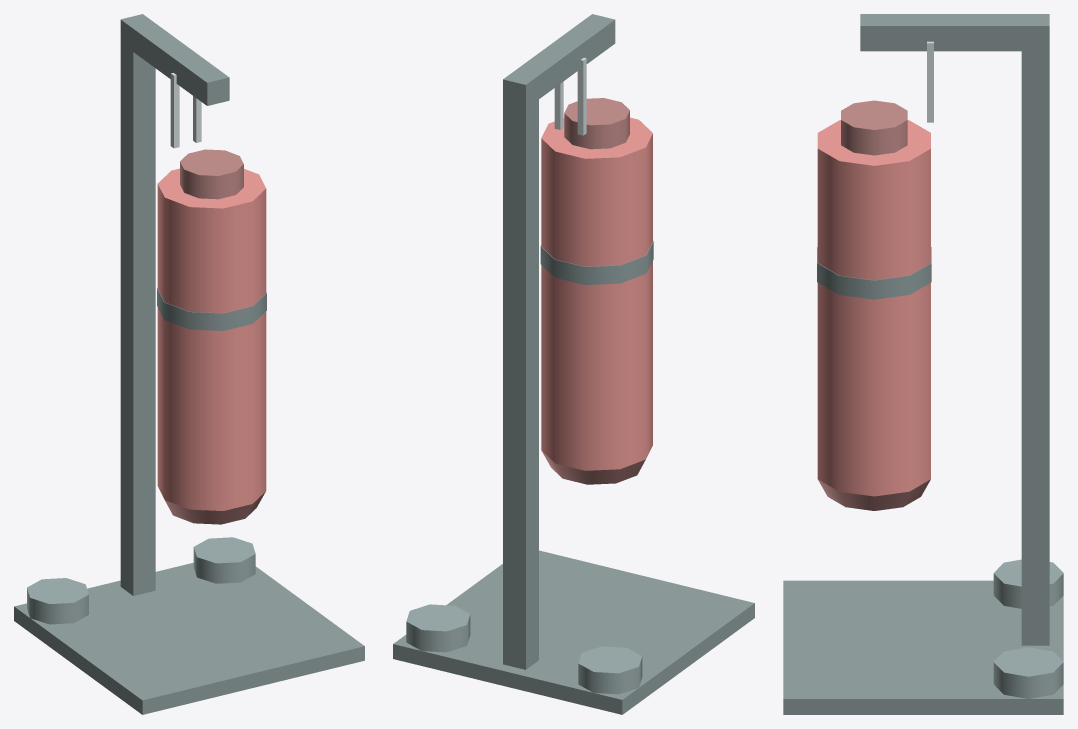
The model's file is punchingBag.glb.
The picture shows the model from 3 angles, left to right: view 1: azimuth 30°, elevation 25°; view 2: azimuth 150°, elevation 25°; view 3: azimuth 270°, elevation 25°; orthographic projection. The views are drawn at different scales.
Parts seen in each view (by area): view 1: punchingBag; view 2: punchingBag; view 3: punchingBag.
Part boxes in pixels (x1,y1,x2,y2): punchingBag: (14, 14, 364, 714); punchingBag: (393, 14, 754, 714); punchingBag: (783, 14, 1063, 714).
Size of the model in its own units: 0.4 by 1 by 0.4.
